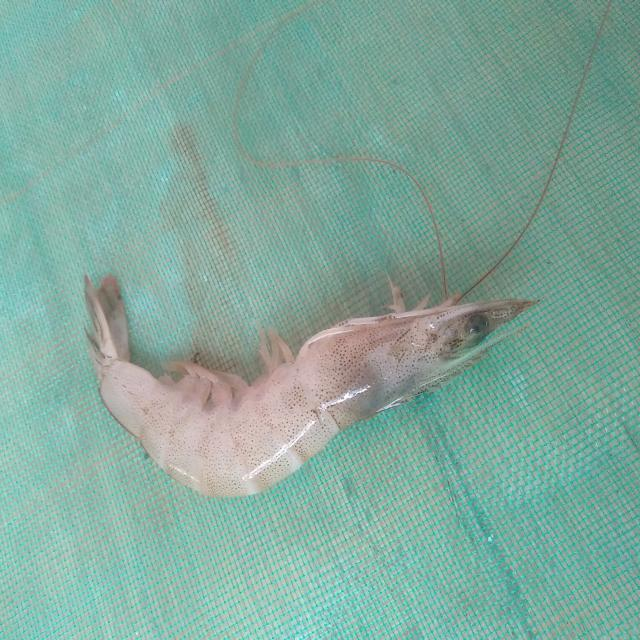shrimp: (84, 275, 537, 497)
